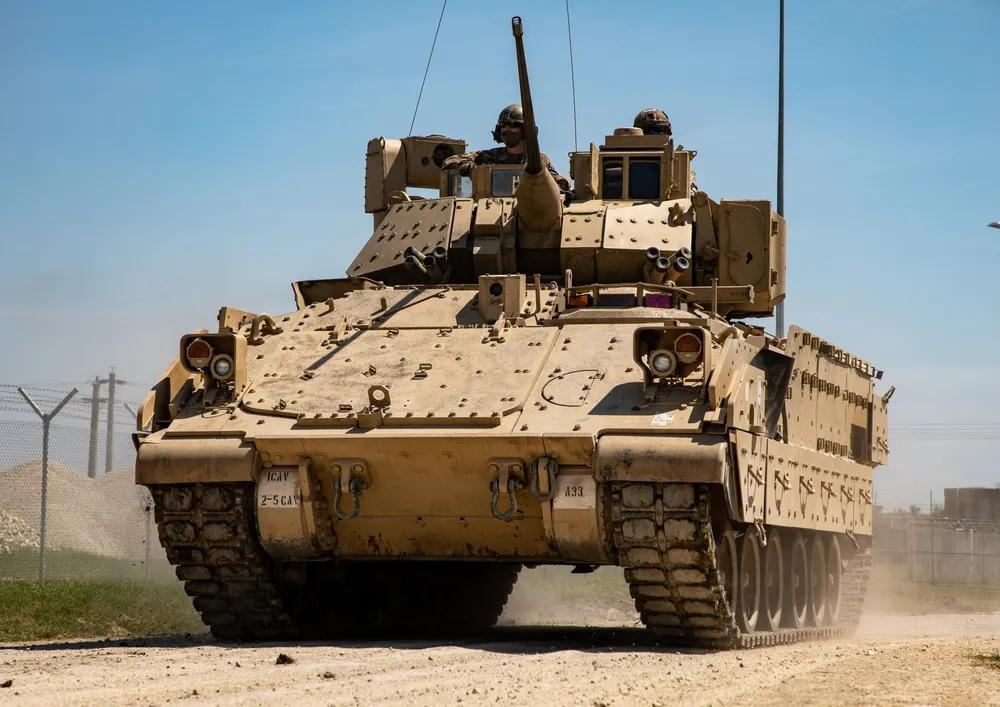MIL_IFV: (131, 93, 896, 654)
